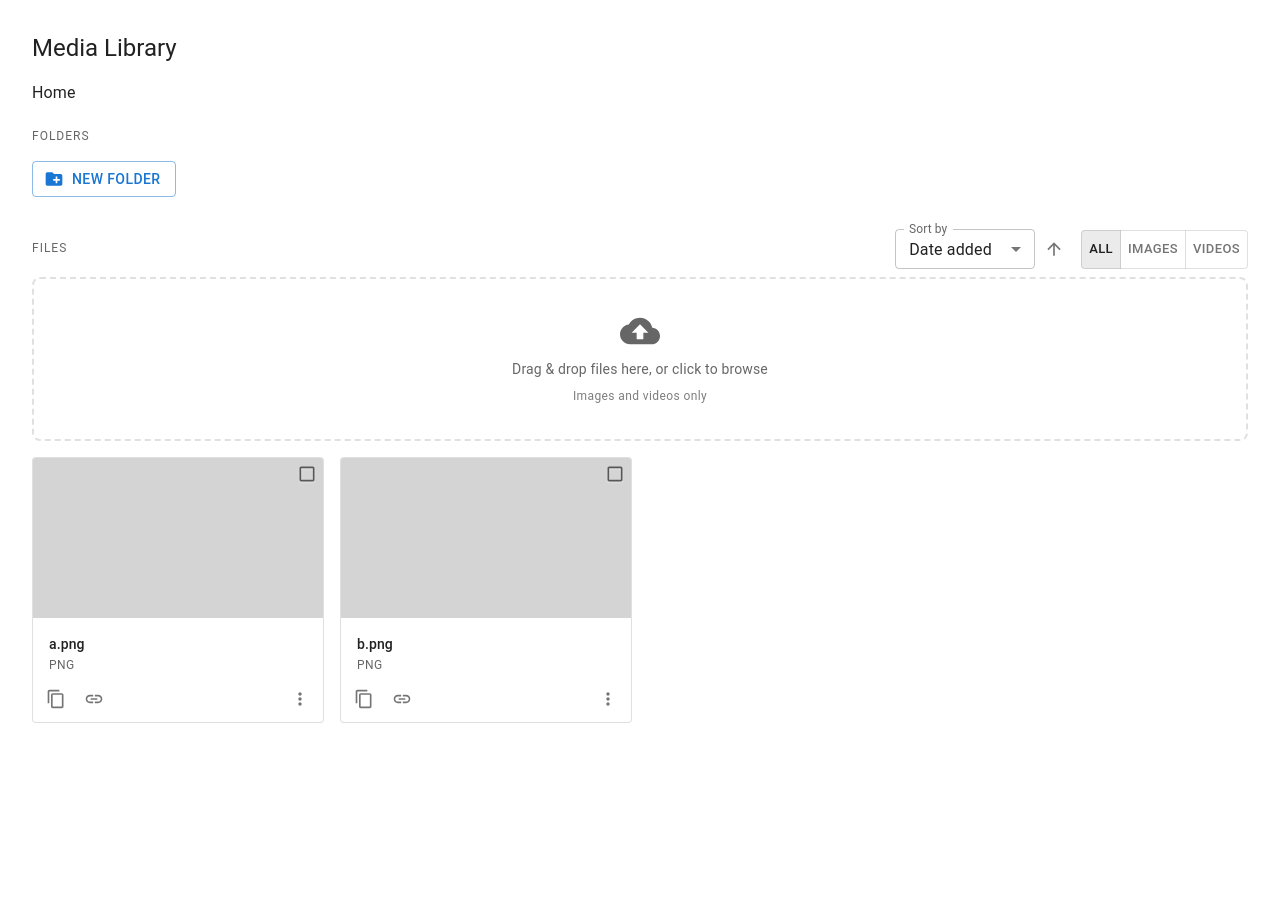
MediaPage › bulk-deletes the selected files
What coordinates should you click on to do the following:
click the checkbox named "Select a.png"
I would click on:
 (307, 474)
Its box is [297,464,317,484].
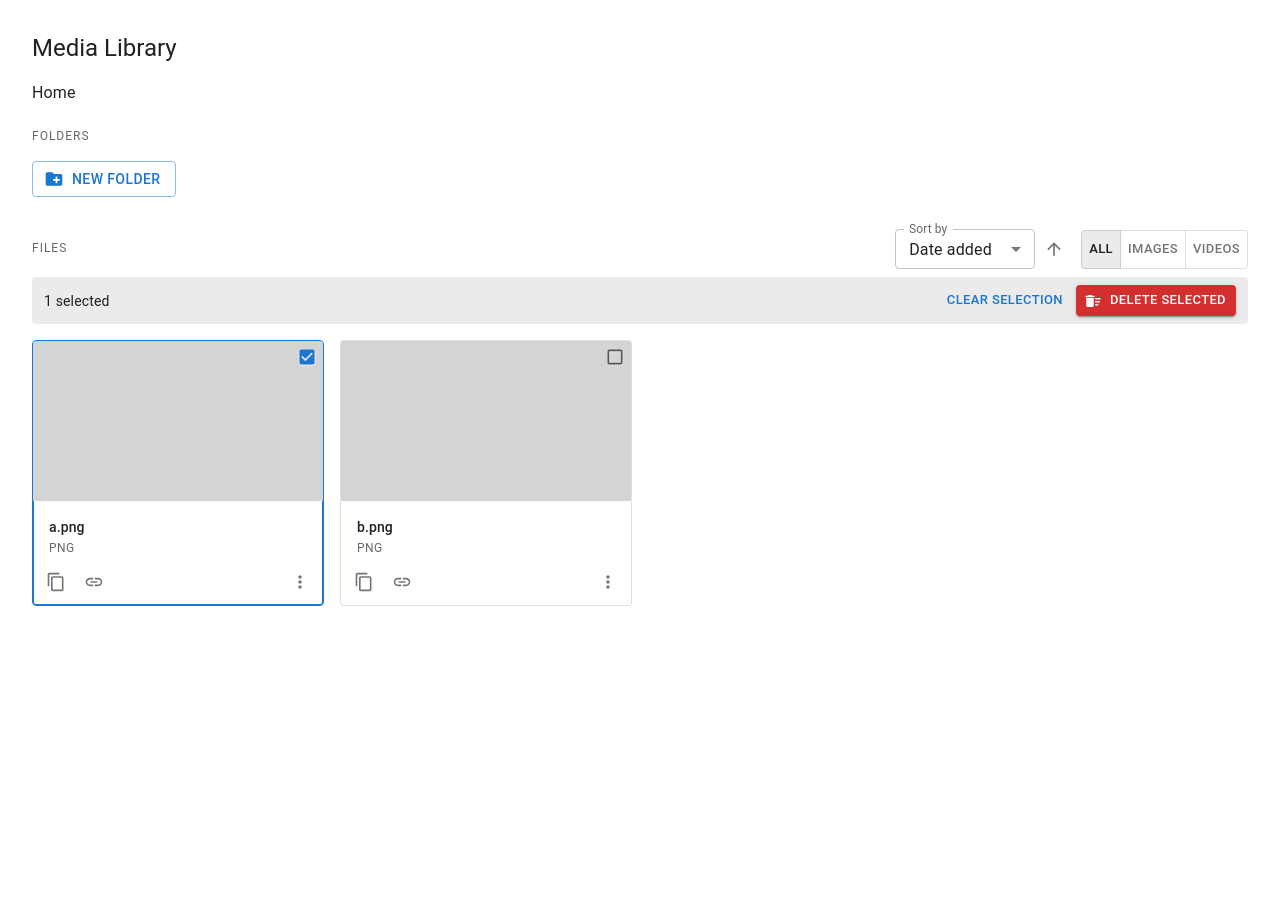
What coordinates should you click on to do the following:
click the checkbox named "Select b.png"
I would click on:
 (615, 357)
Its box is [605,347,625,367].
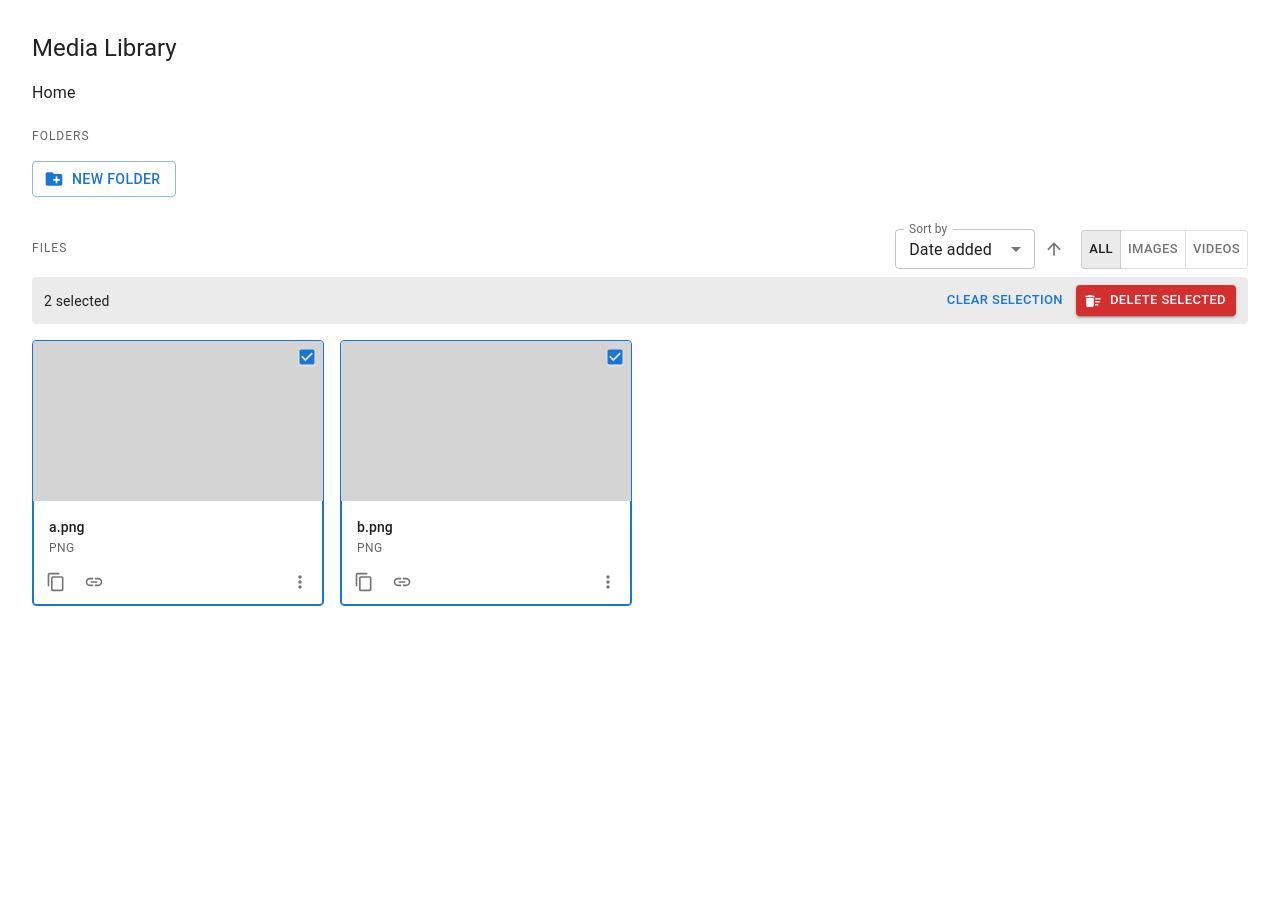
What coordinates should you click on to do the following:
click the button "Delete selected"
I would click on:
 (1156, 301)
Its box is [1076,285,1236,316].
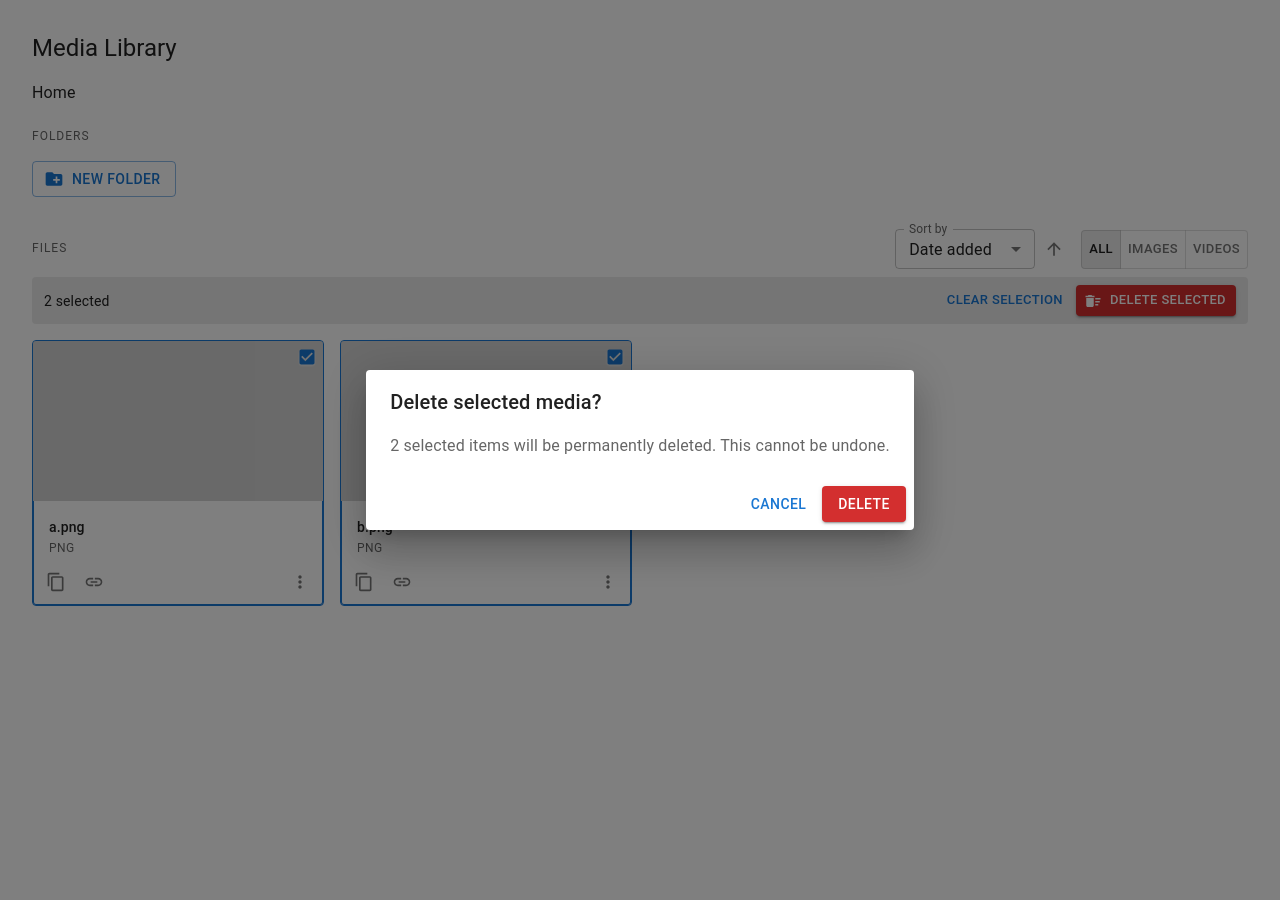
What coordinates should you click on to do the following:
click the button "Delete"
I would click on:
 (864, 504)
Its box is [822,486,906,522].
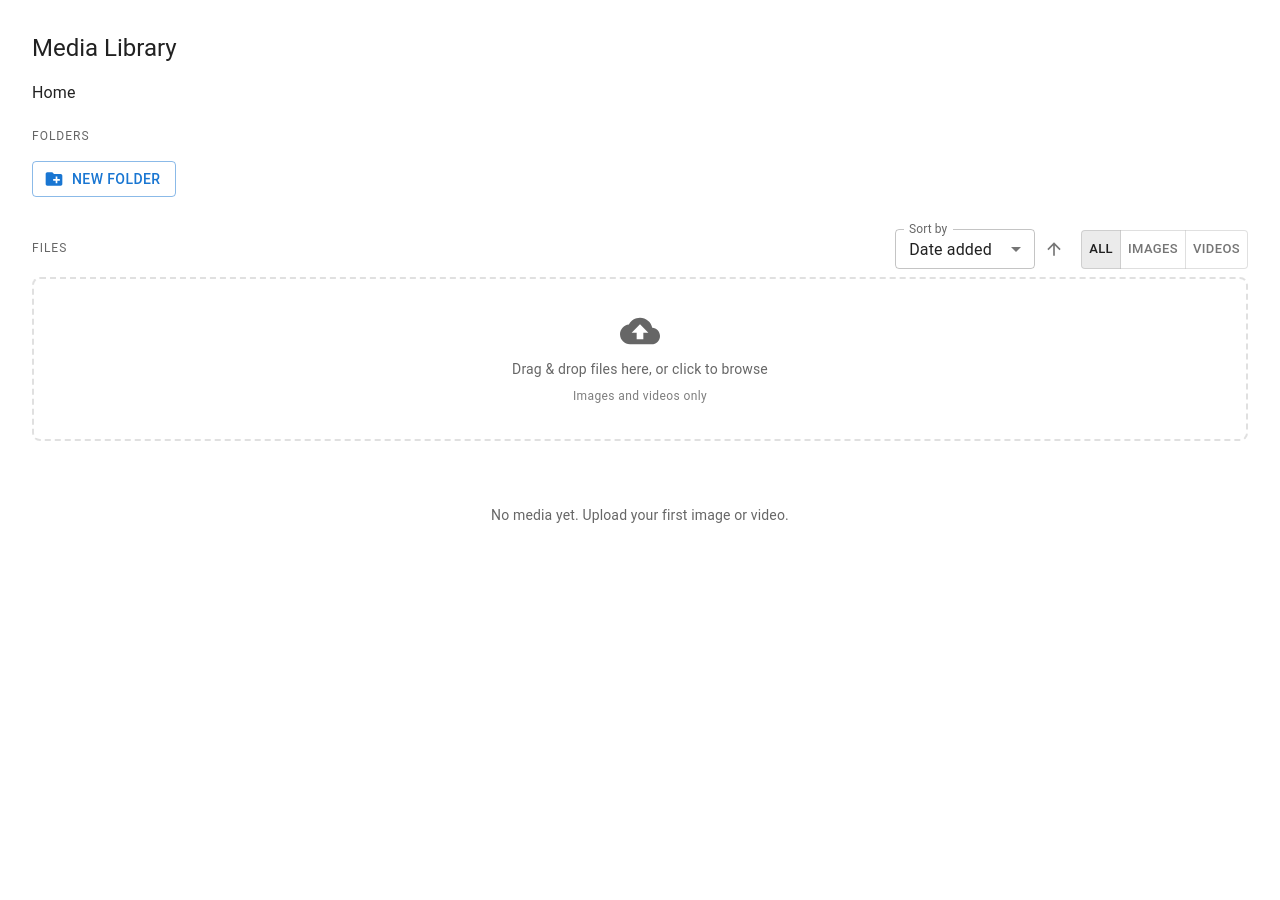
Expected: the heading "a.png" is gone
Expected: the heading "b.png" is gone
